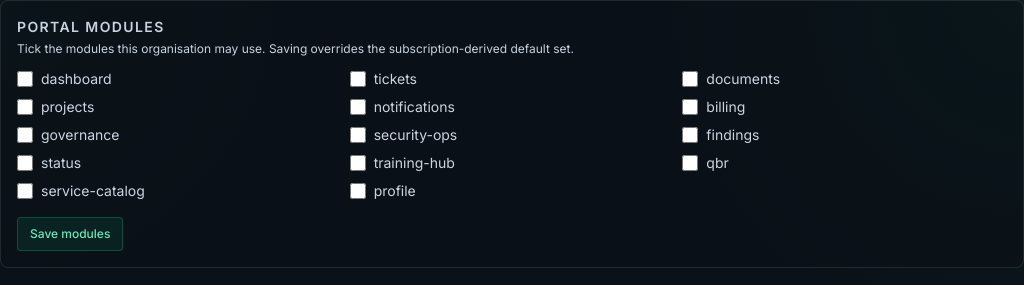
it: ClientPortalEntitlementsForm › shows an error when saving fails
Click the button "Save modules" at (70, 234), box [17,217,123,251]
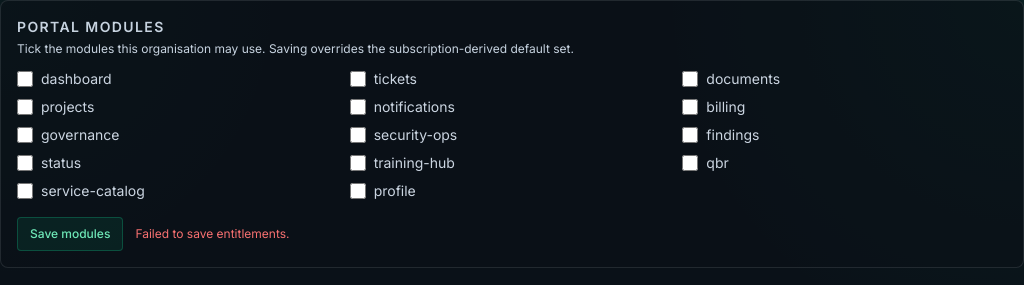
Check: the text "Failed to save entitlements." is shown, box [135,226,290,242]
